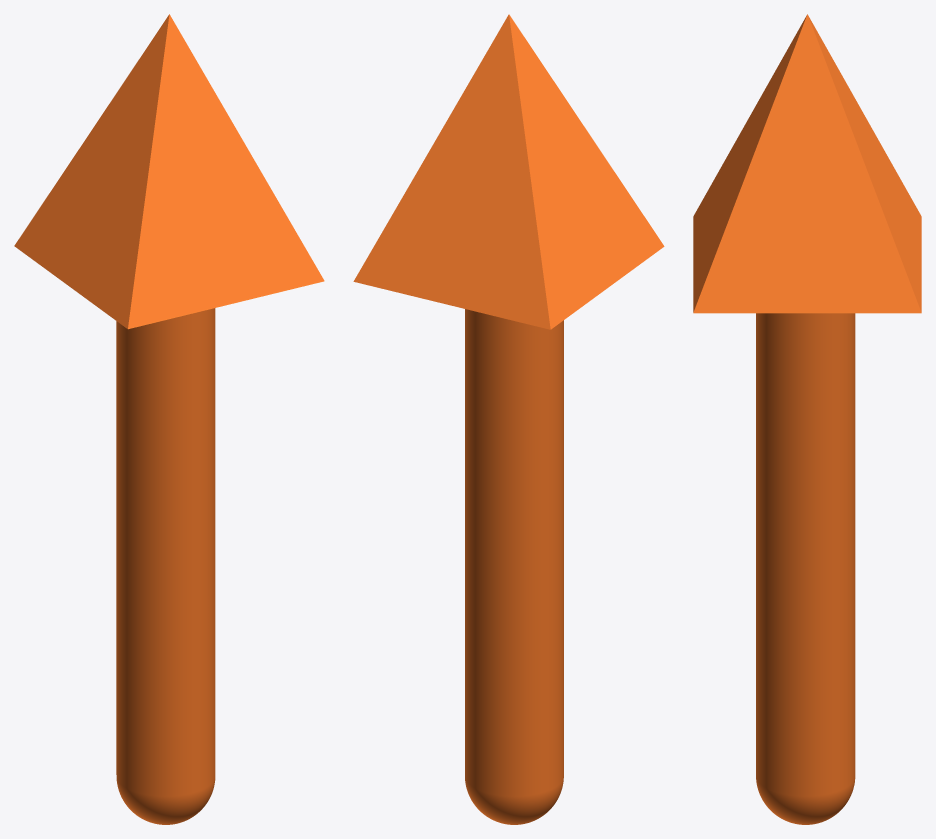
Rendered from arrow.fbx.
3 renders of one model, left to right at view 1: azimuth 30°, elevation 25°; view 2: azimuth 150°, elevation 25°; view 3: azimuth 270°, elevation 25°, orthographic.
Visible parts, largest first — view 1: root (×2); view 2: root (×2); view 3: root (×2).
Part boxes in pixels (x1,y1,x2,y2): root (×2): [14, 14, 324, 824]; root (×2): [353, 14, 664, 824]; root (×2): [693, 14, 921, 824].
Bounding box in the file's own units: 0.0629 × 0.2454 × 0.0629.
2 materials, 2 textured.
